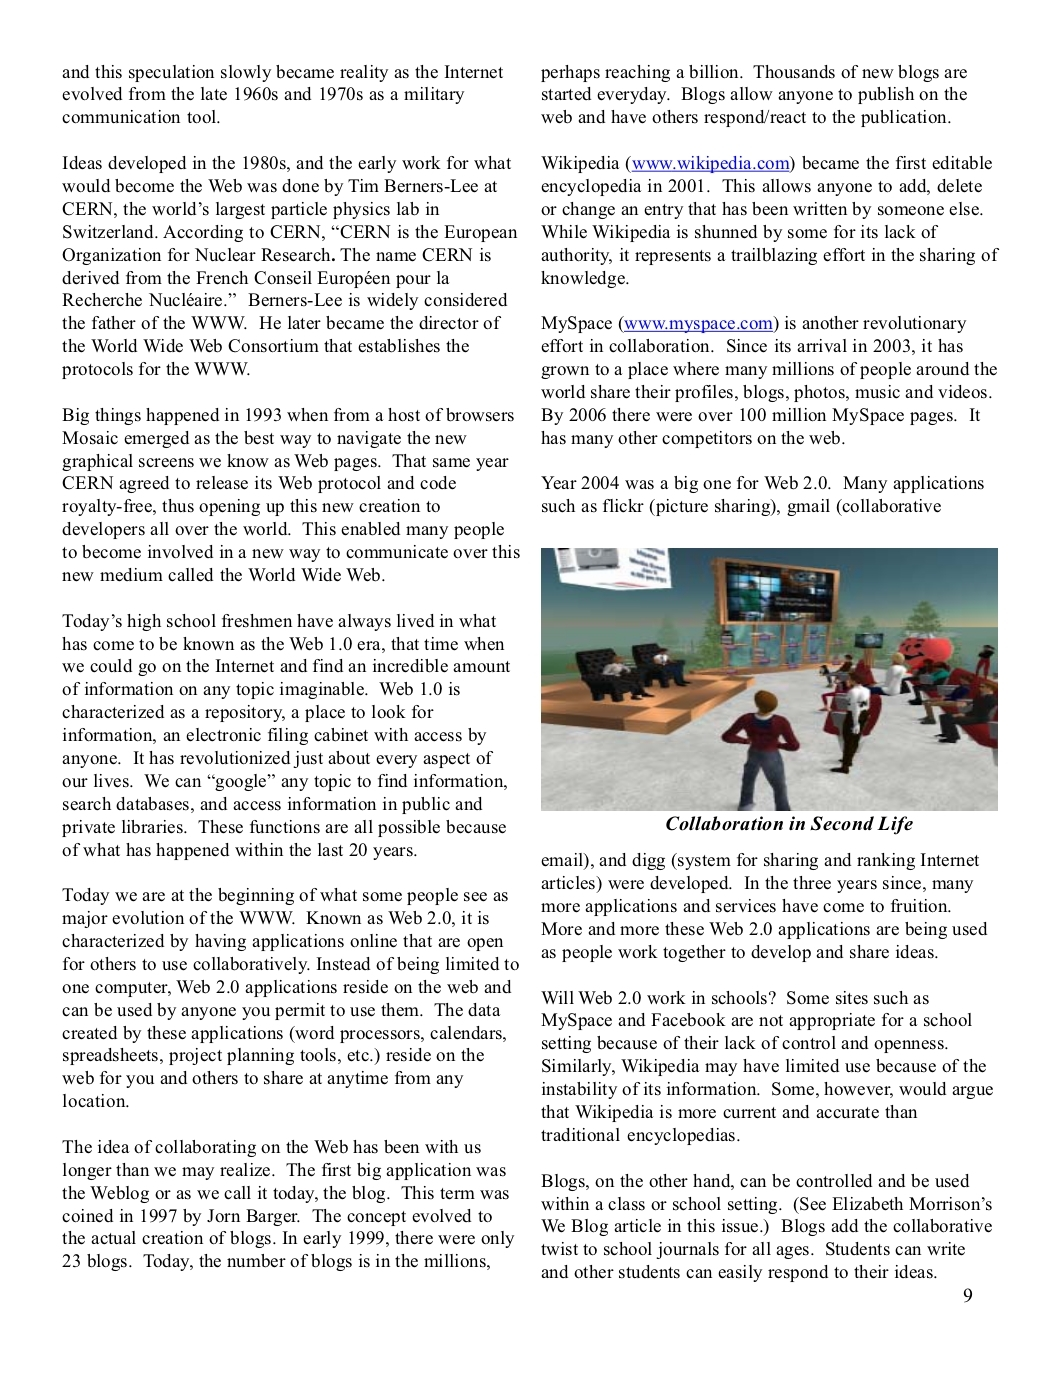figure: (541, 547, 997, 811)
